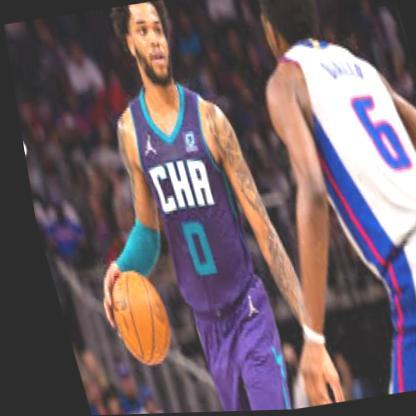basketball: (91, 269, 167, 368)
